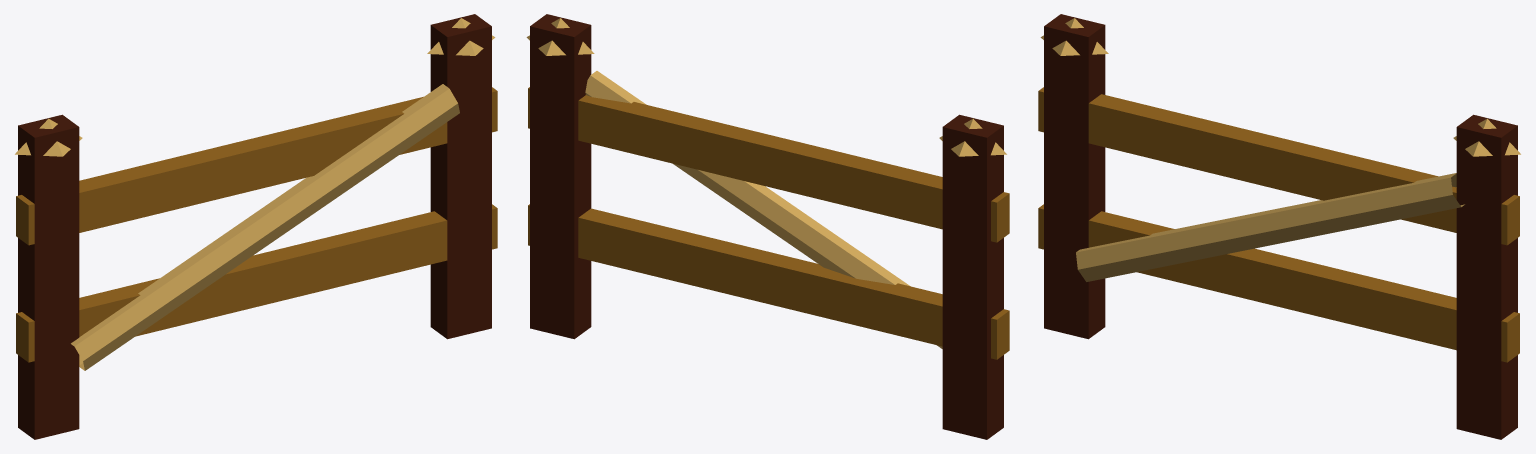
Rendered from farm_fence_neon6.fbx.
3 renders of one model, left to right at view 1: azimuth 30°, elevation 25°; view 2: azimuth 150°, elevation 25°; view 3: azimuth 330°, elevation 25°, orthographic.
Parts seen in each view (by area): view 1: Part_2, Part_0, Part_1; view 2: Part_2, Part_0, Part_1; view 3: Part_2, Part_1, Part_0.
Boxes of the visible parts, x1,y1,x2,y2 form: Part_2: [16, 25, 497, 370]; Part_0: [15, 114, 82, 439]; Part_1: [427, 14, 495, 339]; Part_2: [528, 25, 1009, 359]; Part_0: [939, 114, 1009, 439]; Part_1: [526, 14, 594, 338]; Part_2: [1038, 25, 1519, 362]; Part_1: [1453, 114, 1520, 439]; Part_0: [1040, 14, 1108, 339].
Size of the model in its own units: 2.6 by 1.6 by 0.28.
